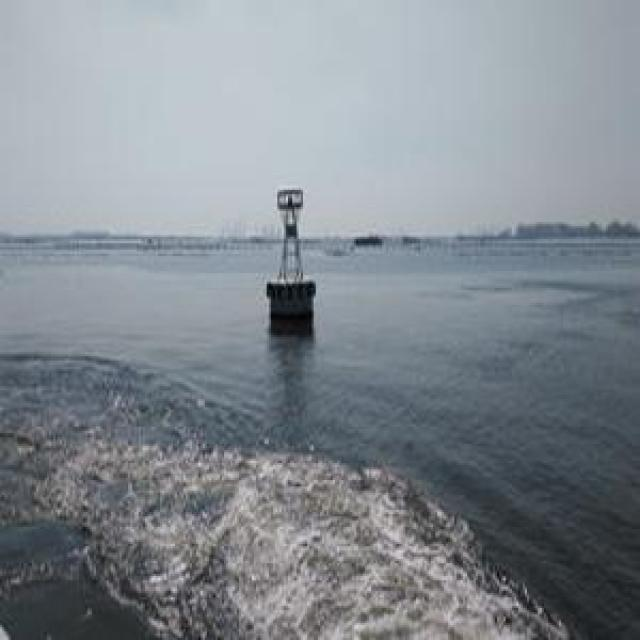buoy: (256, 182, 321, 318)
